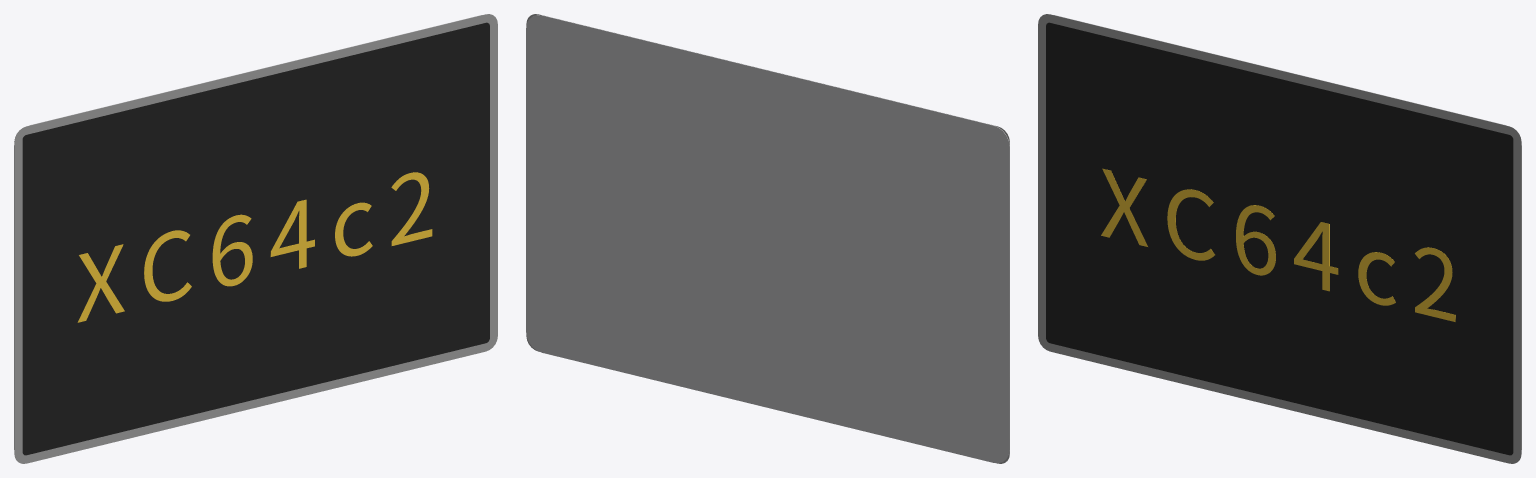
The picture shows the model from 3 angles, left to right: view 1: azimuth 30°, elevation 25°; view 2: azimuth 150°, elevation 25°; view 3: azimuth 330°, elevation 25°; orthographic projection.
Visible parts, largest first — view 1: XC64c2_fond01, XC64c2_cadre00, XC64c2_txt02, XC64c2_dos; view 2: XC64c2_dos, XC64c2_cadre00; view 3: XC64c2_fond01, XC64c2_cadre00, XC64c2_txt02, XC64c2_dos.
Boxes of the visible parts, <box> form: XC64c2_fond01: <box>22,22,489,455</box>; XC64c2_cadre00: <box>14,14,497,463</box>; XC64c2_txt02: <box>77,172,432,322</box>; XC64c2_dos: <box>14,15,481,449</box>; XC64c2_dos: <box>526,15,1009,463</box>; XC64c2_cadre00: <box>526,14,1009,463</box>; XC64c2_fond01: <box>1046,22,1513,455</box>; XC64c2_cadre00: <box>1038,14,1521,463</box>; XC64c2_txt02: <box>1101,168,1455,321</box>; XC64c2_dos: <box>1054,15,1521,449</box>.
Size of the model in its own units: 1.2 by 0.8 by 0.0025.
